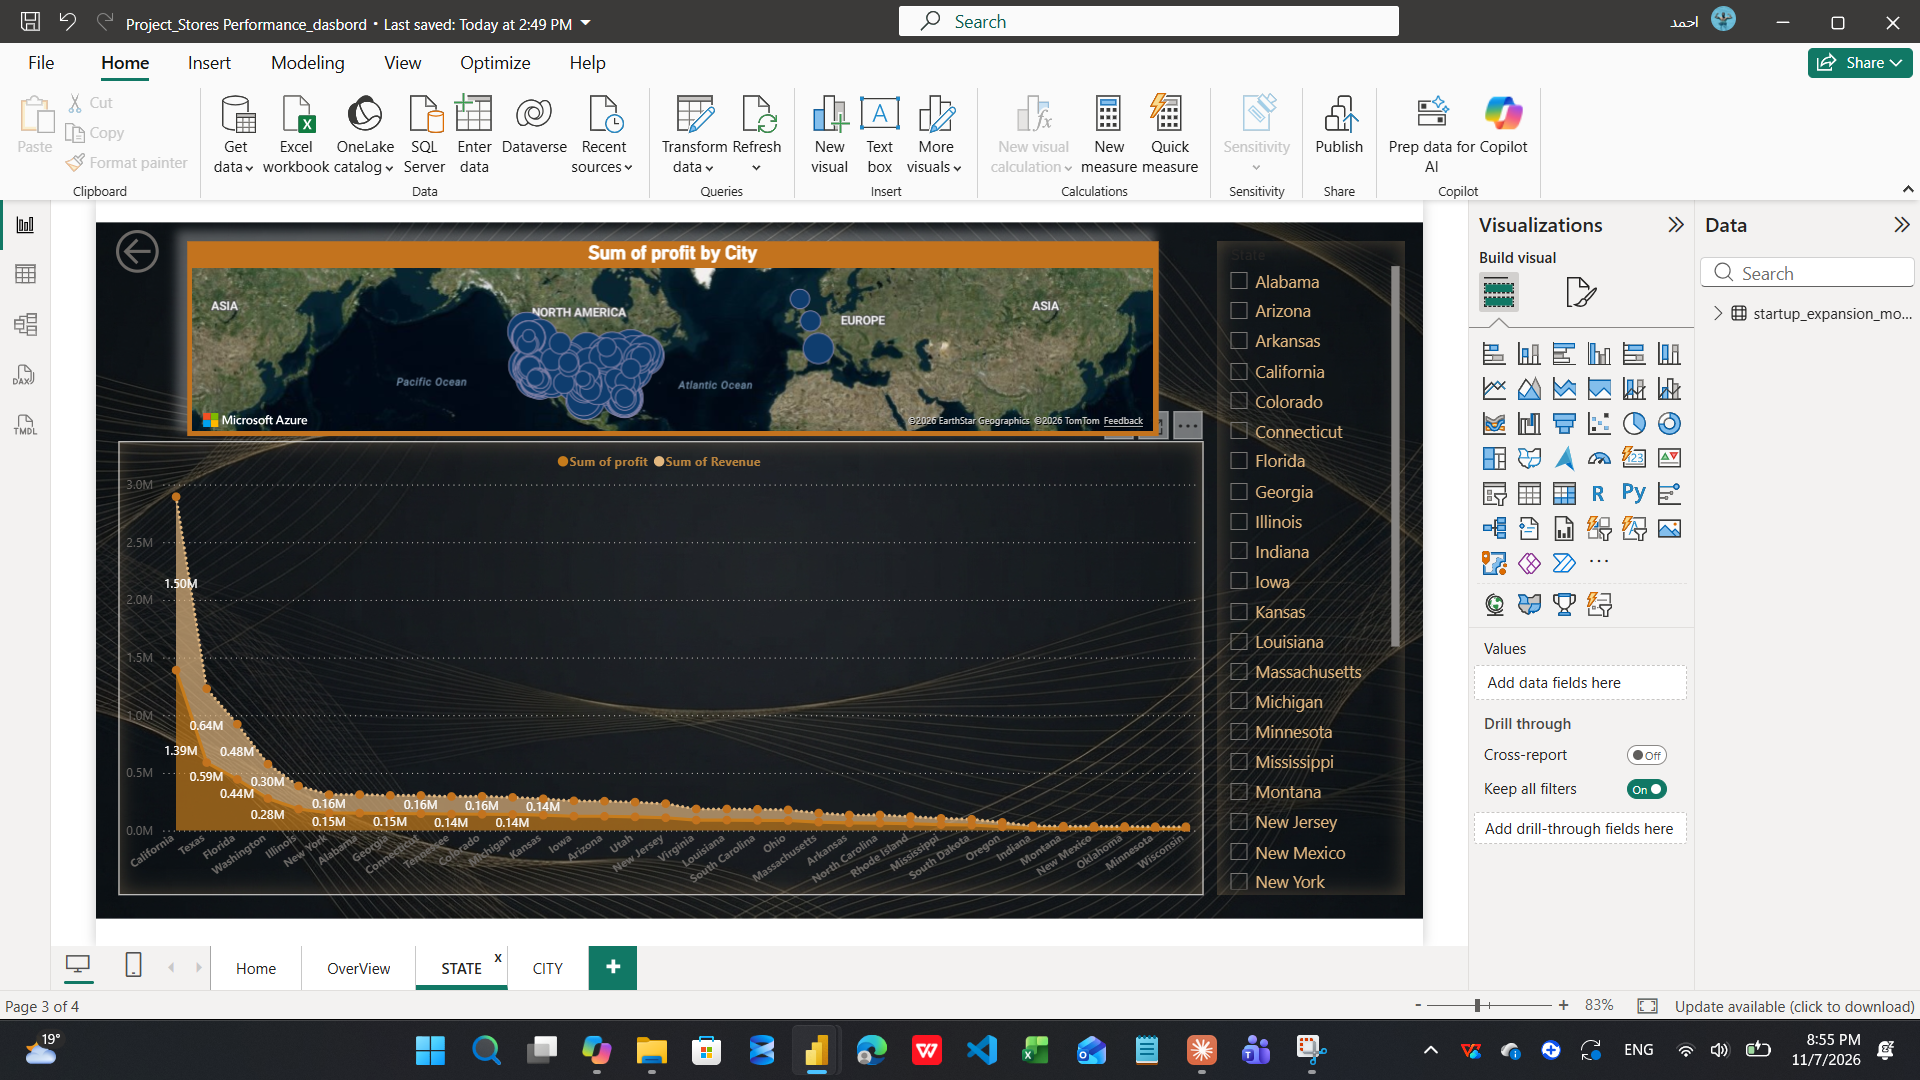

The page's visual inventory and layout, read from the dashboard file:
{"tool":"powerbi","page":{"name":"STATE","canvas":[1280,720],"ordinal":2},"visuals":[{"type":"stackedAreaChart","fields":{"Y":["Sum(startup_expansion_modified.profit)","Sum(startup_expansion_modified.Revenue)"],"Category":["startup_expansion_modified.State"]},"box":[21.7,232.8,1047.2,437.9],"z":0},{"type":"slicer","fields":{"Values":["startup_expansion_modified.State"]},"box":[1082.2,39.8,181,631],"z":1000},{"type":"actionButton","box":[13.3,22.7,128,53.3],"z":2000},{"type":"azureMap","fields":{"Category":["startup_expansion_modified.City"],"Size":["Sum(startup_expansion_modified.profit)"]},"box":[88.1,39.8,937.4,188.2],"z":3000}]}

Visuals, with their boxes on the page's 1280x720 design canvas (x1, y1, x2, y2). These are canvas units, not pixel positions in the 1920x1080 screenshot, which may show the page scaled, cropped or inside an application window:
stackedAreaChart - Sum(startup_expansion_modified.profit) x Sum(startup_expansion_modified.Revenue): crop(22, 233, 1069, 671)
slicer - startup_expansion_modified.State: crop(1082, 40, 1263, 671)
actionButton: crop(13, 23, 141, 76)
azureMap - startup_expansion_modified.City x Sum(startup_expansion_modified.profit): crop(88, 40, 1026, 228)
